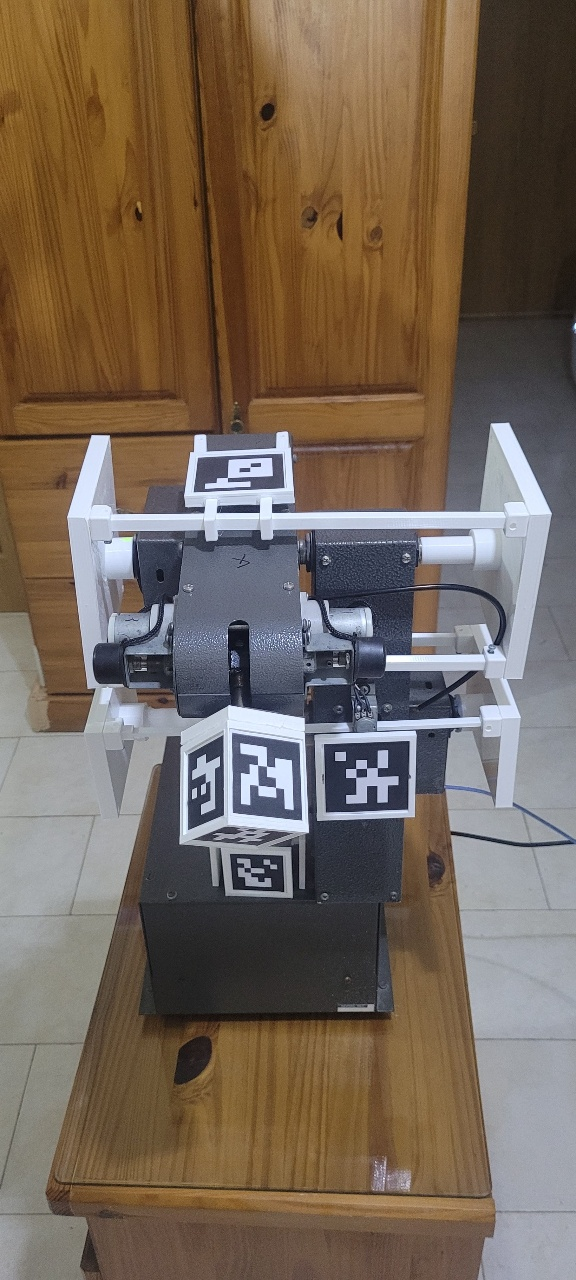Robot: (99, 157, 533, 937)
